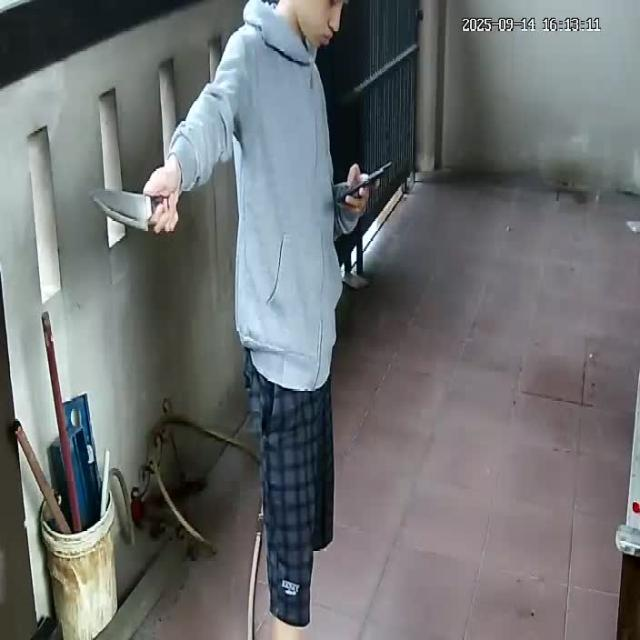senjata_tajam: (83, 186, 155, 232)
